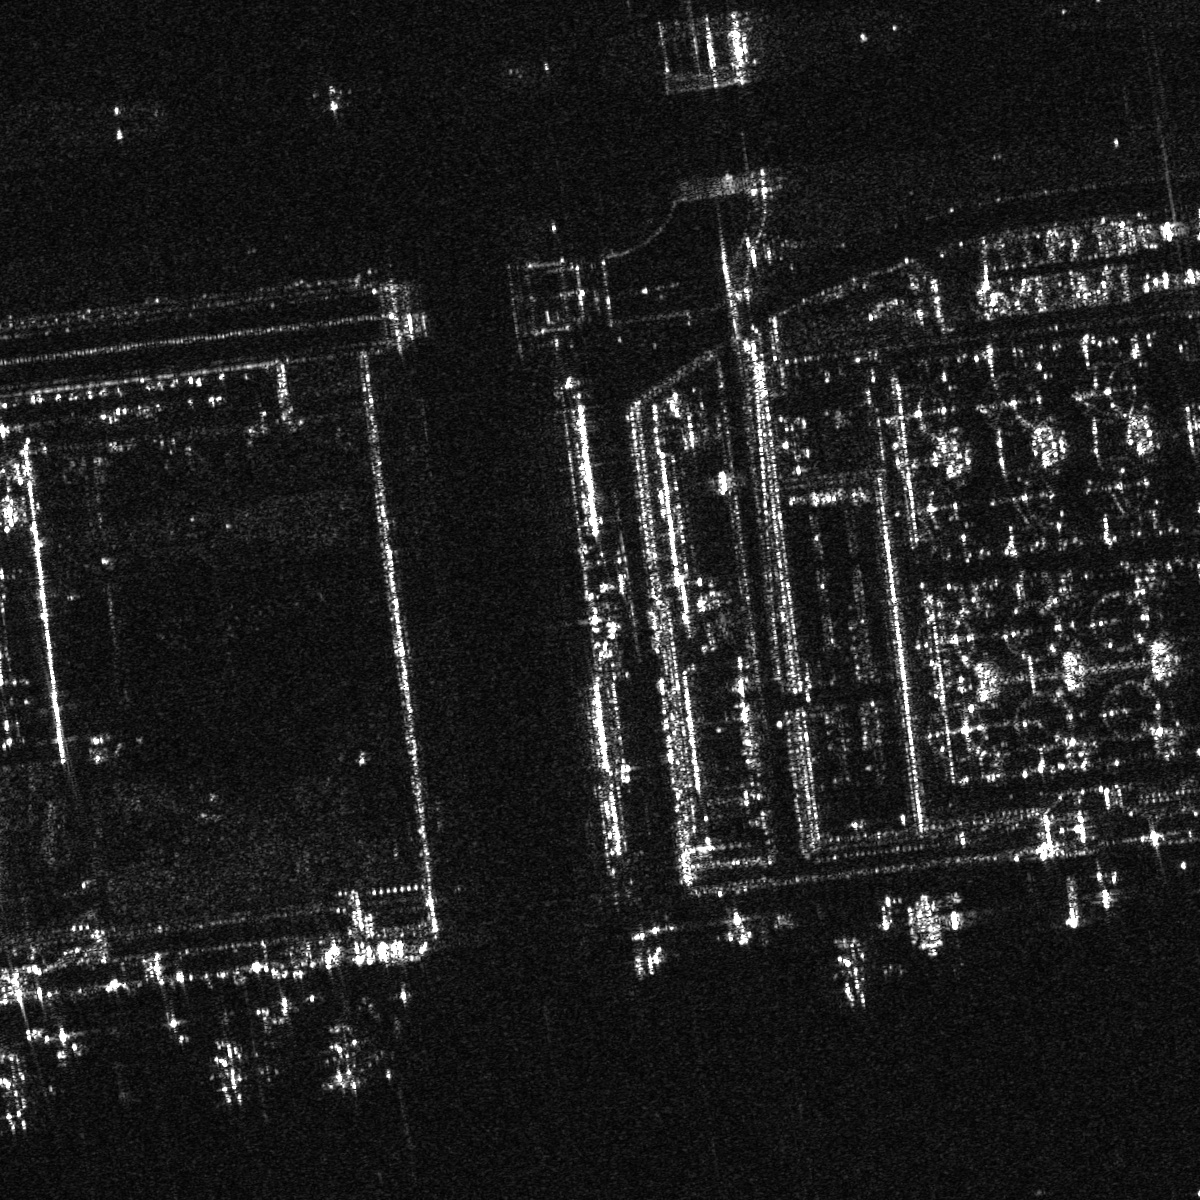A330: (310, 79, 353, 115)
Boeing787: (816, 935, 895, 1010), (196, 1032, 265, 1109), (318, 1026, 381, 1095)
